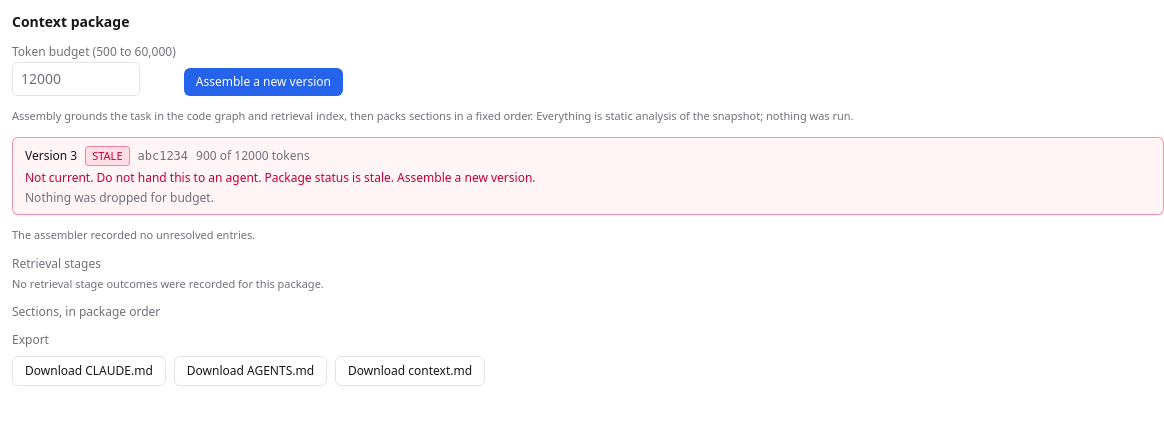
Test: exporting a package that is not current › shows a non-409 failure as an error, not as an offer to export anyway
The image size is (1164, 427).
Click the button "Download CLAUDE.md" at (89, 371), box [12,356,166,386]
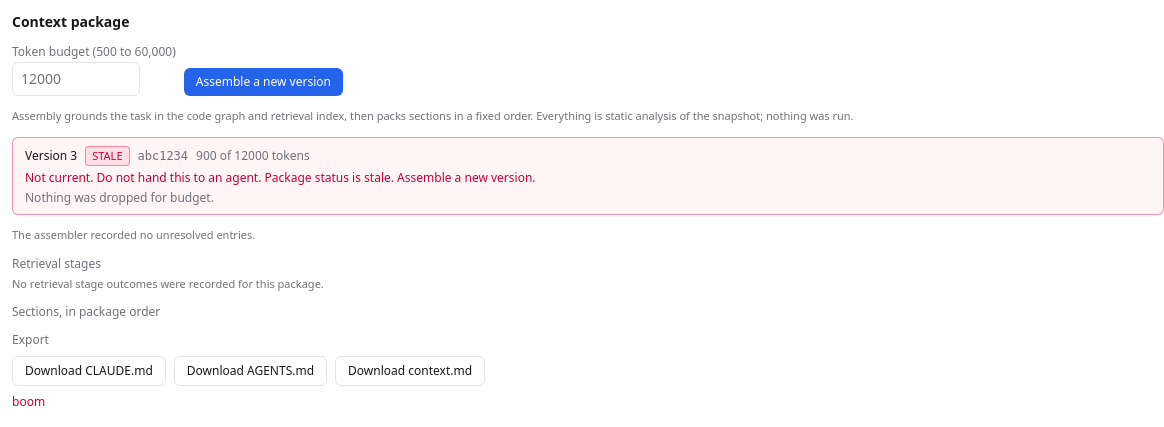
expect the text "boom" is shown: met, box [12,393,45,410]
